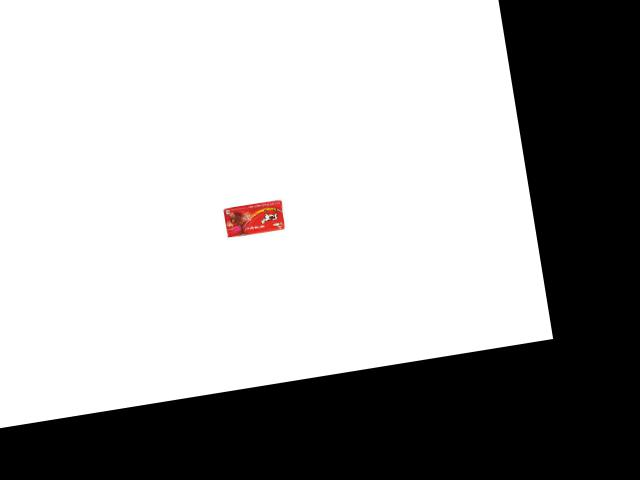chocolate: (222, 196, 288, 238)
